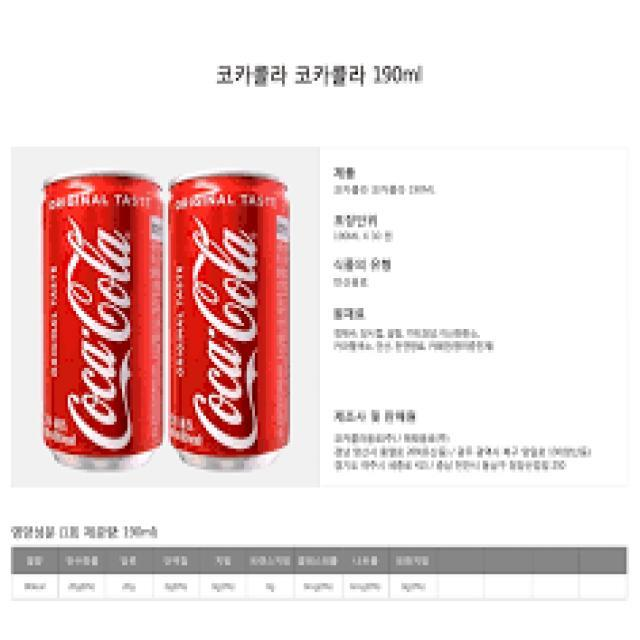coca-cola: (38, 168, 168, 476), (170, 166, 294, 474)
